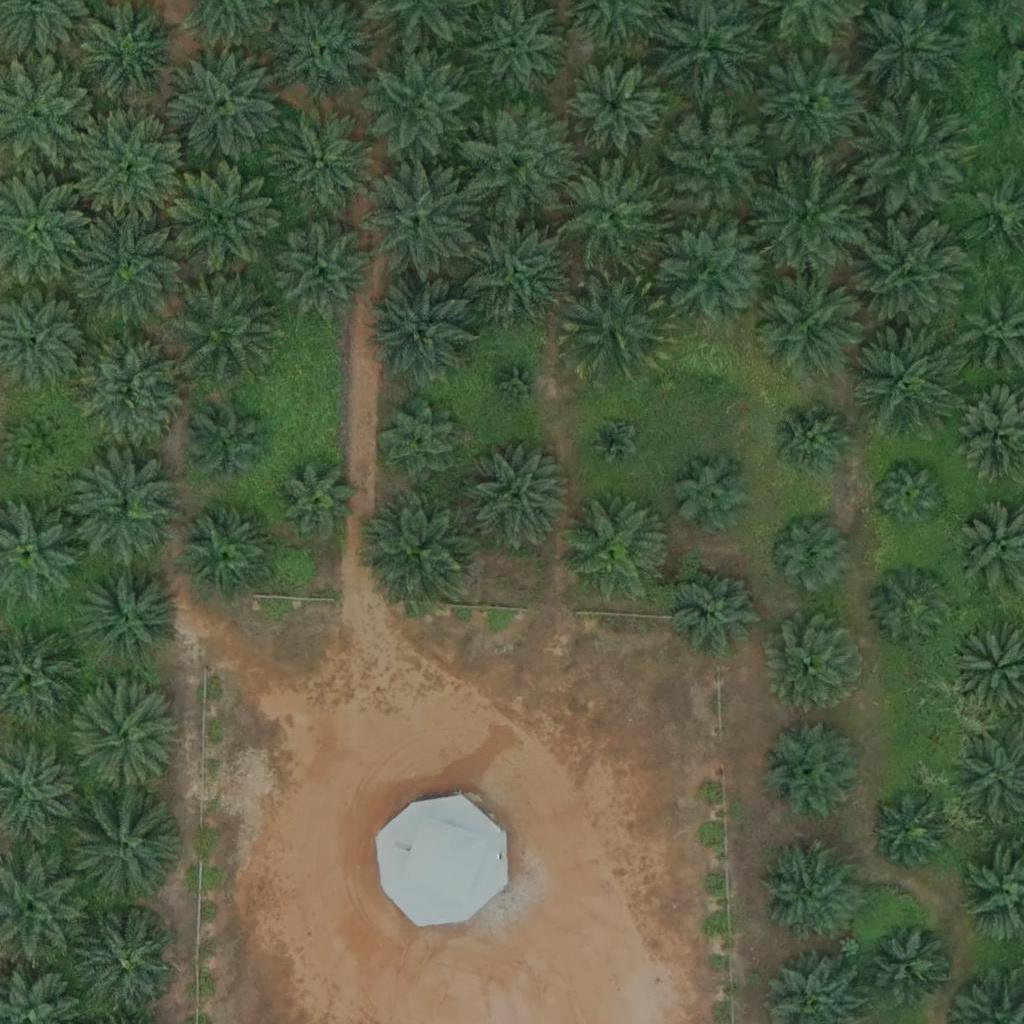Kelapa_Sawit: (849, 317, 962, 431), (752, 48, 865, 162), (749, 158, 862, 272), (74, 331, 187, 445), (754, 268, 867, 381), (656, 108, 769, 221), (364, 52, 477, 165), (364, 165, 477, 278), (367, 280, 480, 393), (262, 101, 375, 214), (78, 112, 191, 225), (72, 207, 185, 320), (68, 455, 181, 568), (72, 559, 185, 672), (72, 682, 185, 795), (67, 794, 180, 907), (367, 493, 480, 606), (853, 98, 965, 212), (855, 215, 967, 329), (559, 493, 671, 607), (558, 269, 670, 382), (661, 215, 773, 328), (556, 159, 668, 272), (456, 105, 568, 218), (460, 212, 572, 325), (168, 49, 280, 162), (173, 161, 285, 274), (172, 268, 284, 381), (460, 443, 572, 556), (565, 56, 665, 157), (274, 221, 374, 322), (757, 840, 857, 941), (77, 913, 177, 1013), (767, 614, 867, 714), (762, 721, 862, 821), (183, 511, 271, 600), (676, 566, 764, 654), (379, 401, 466, 489), (670, 451, 757, 539), (769, 401, 856, 489), (766, 510, 853, 598), (868, 565, 955, 653), (866, 921, 953, 1009), (192, 411, 267, 487), (873, 793, 948, 869), (278, 462, 353, 537), (871, 457, 946, 532), (9, 414, 71, 477), (494, 359, 544, 410), (588, 415, 638, 466), (685, 352, 735, 402)
